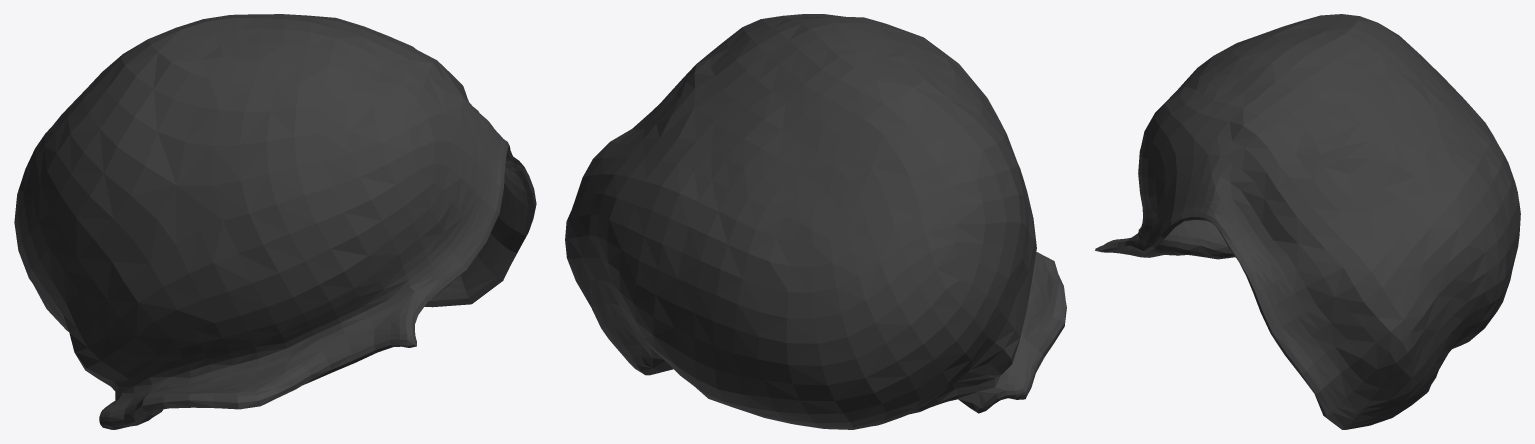
File: FOSSA_tensor_tympani_L.glb
3 renders of one model, left to right at view 1: azimuth 30°, elevation 25°; view 2: azimuth 150°, elevation 25°; view 3: azimuth 270°, elevation 25°, orthographic. The views are drawn at different scales.
Parts seen in each view (by area): view 1: FOSSA_tensor_tympani_L; view 2: FOSSA_tensor_tympani_L; view 3: FOSSA_tensor_tympani_L.
Boxes of the visible parts, <box> form: FOSSA_tensor_tympani_L: <box>14,14,536,429</box>; FOSSA_tensor_tympani_L: <box>565,14,1066,429</box>; FOSSA_tensor_tympani_L: <box>1095,14,1520,429</box>.
Bounding box in the file's own units: 1.99 × 1.53 × 1.88.
Materials: 1 (1 with a texture image).
